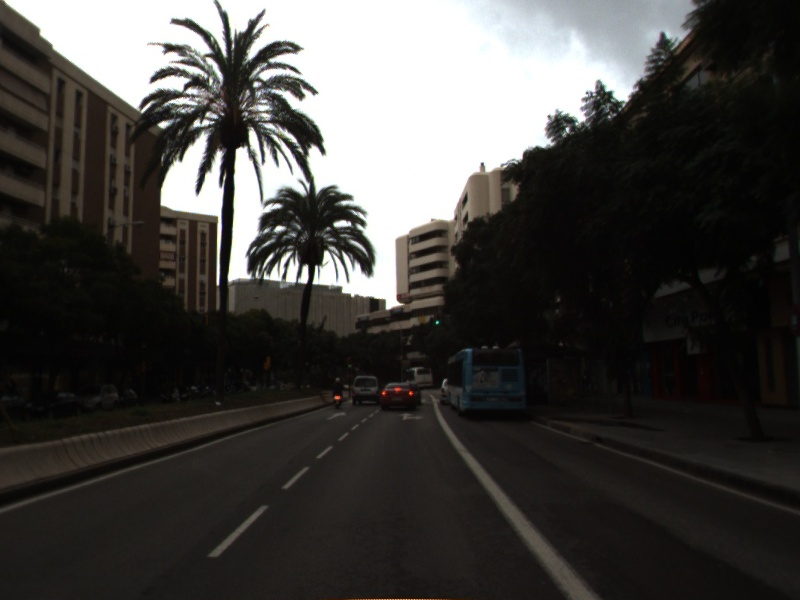STRAIGHT: (324, 409, 349, 422)
STRAIGHT_RIGHT: (397, 410, 426, 422)
